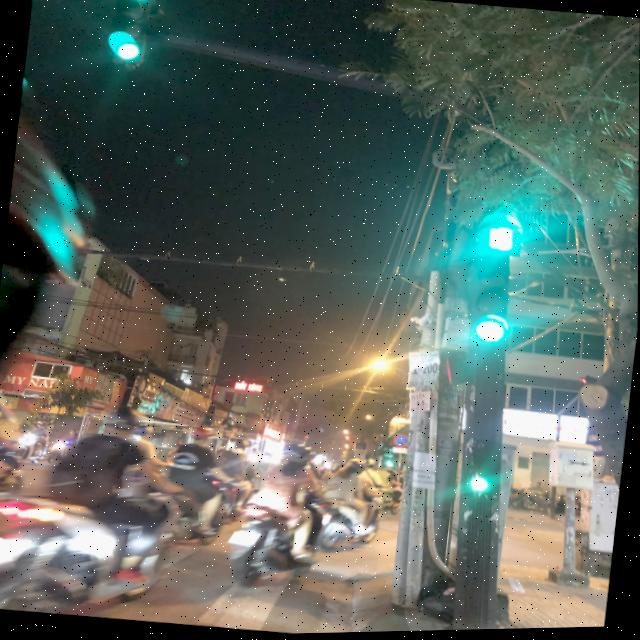Green: (463, 258, 521, 356), (450, 427, 510, 507), (97, 0, 158, 74)
